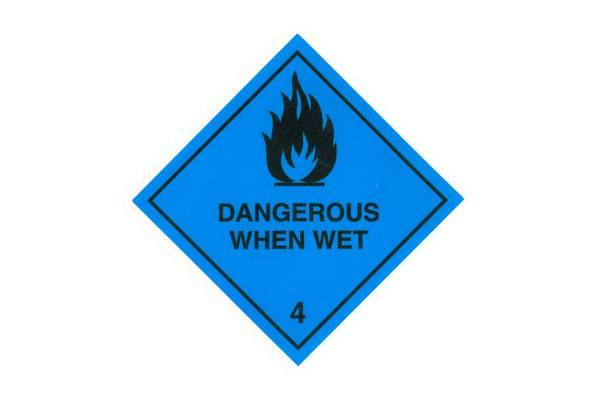Dangerous when wet: (132, 34, 464, 366)
